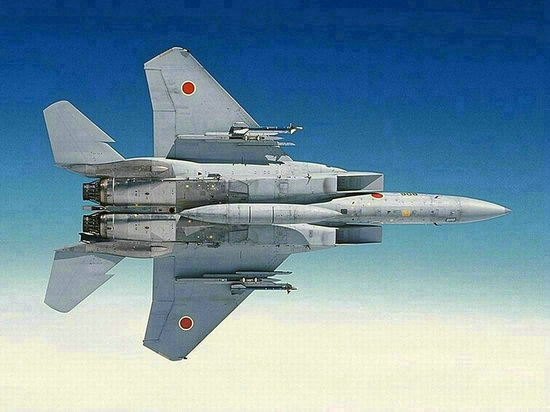airplane: (25, 47, 511, 367)
